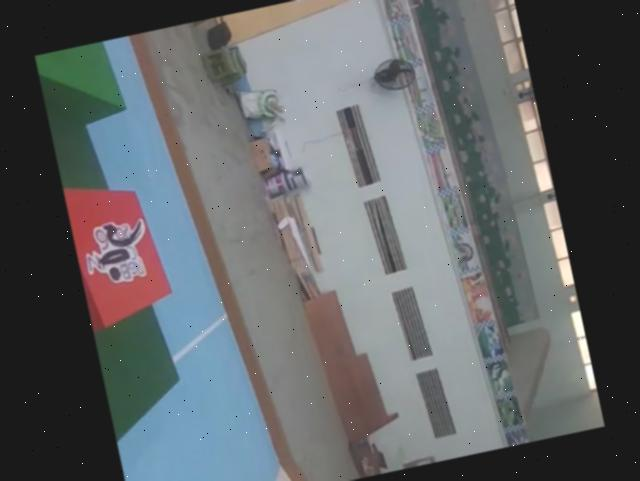R1: (63, 170, 178, 330)
